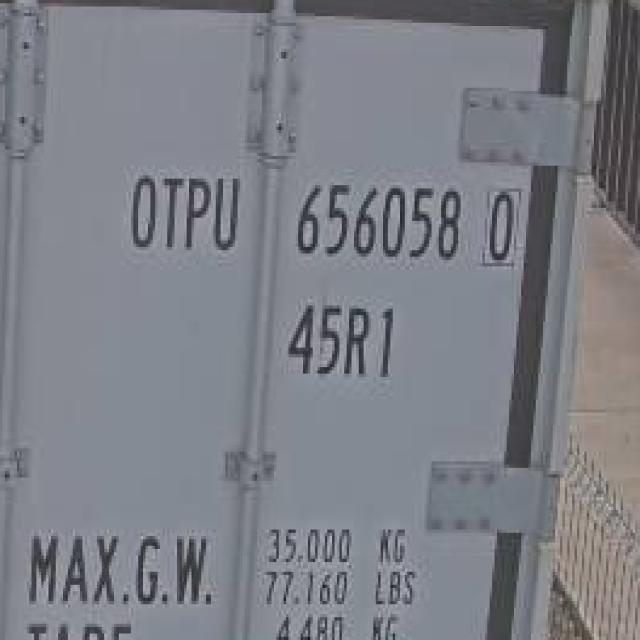dv: (476, 182, 522, 269)
owner: (120, 164, 240, 260)
serial: (283, 168, 464, 266)
size: (277, 295, 413, 384)
